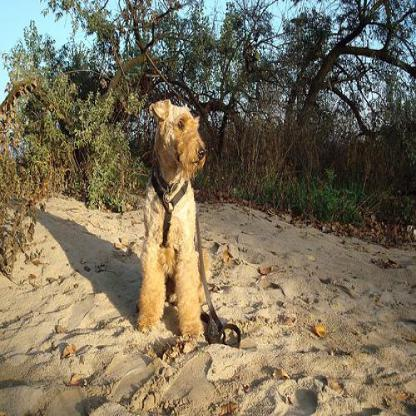dog: (130, 80, 224, 353)
